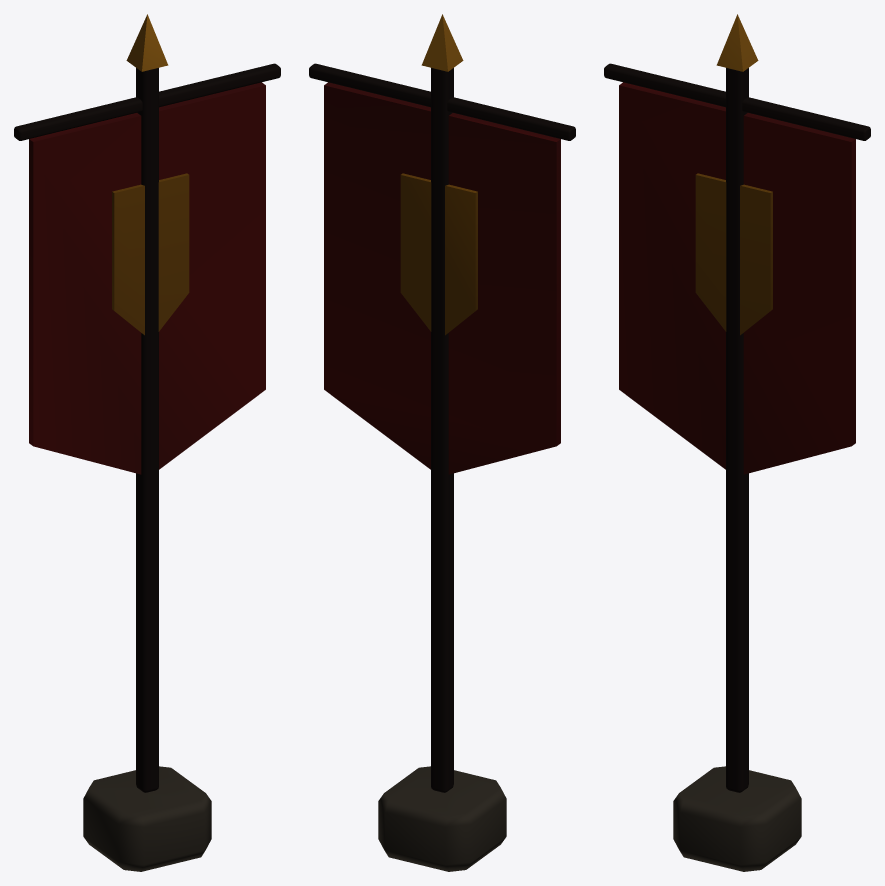
Rendered from Estandarte.fbx.
The picture shows the model from 3 angles, left to right: view 1: azimuth 30°, elevation 25°; view 2: azimuth 150°, elevation 25°; view 3: azimuth 330°, elevation 25°; orthographic projection.
Parts seen in each view (by area): view 1: Estandarte; view 2: Estandarte; view 3: Estandarte.
Boxes of the visible parts, left/top/right/bottom form: Estandarte: left=14, top=14, right=280, bottom=871; Estandarte: left=309, top=14, right=575, bottom=871; Estandarte: left=604, top=14, right=870, bottom=871.
Size of the model in its own units: 1.4 by 4.24 by 0.5.
